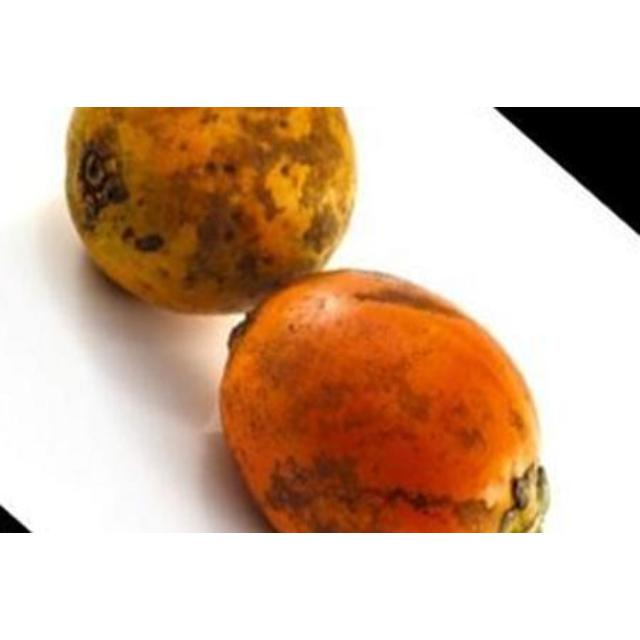good: (218, 269, 552, 532), (64, 107, 358, 313)
